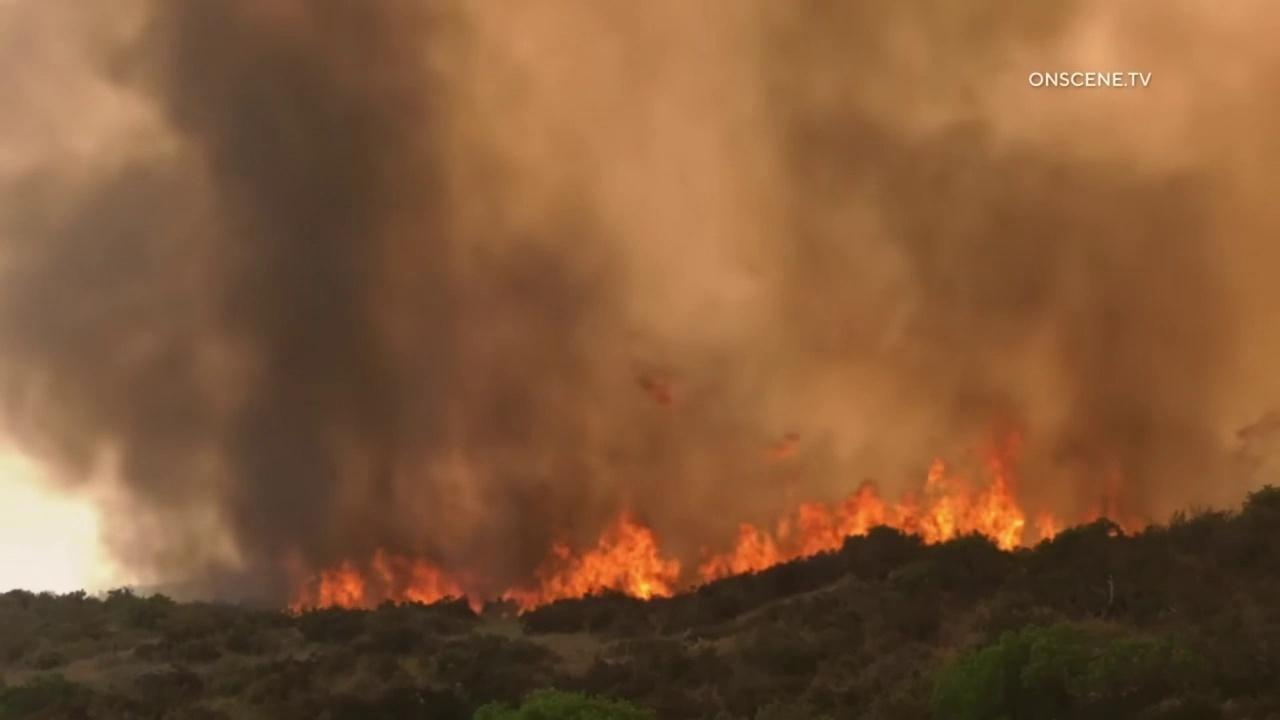fire: (697, 430, 1025, 591), (286, 503, 682, 621), (1082, 460, 1146, 540), (1034, 504, 1065, 545)
smoke: (0, 0, 1280, 616)
